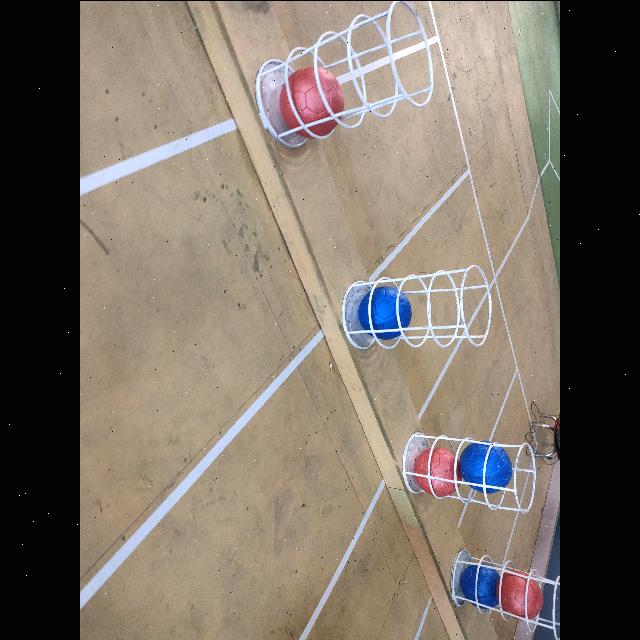B: (459, 440, 513, 492), (360, 286, 412, 338), (461, 563, 502, 609)
R: (278, 65, 346, 137), (413, 446, 461, 496), (495, 570, 543, 620)
